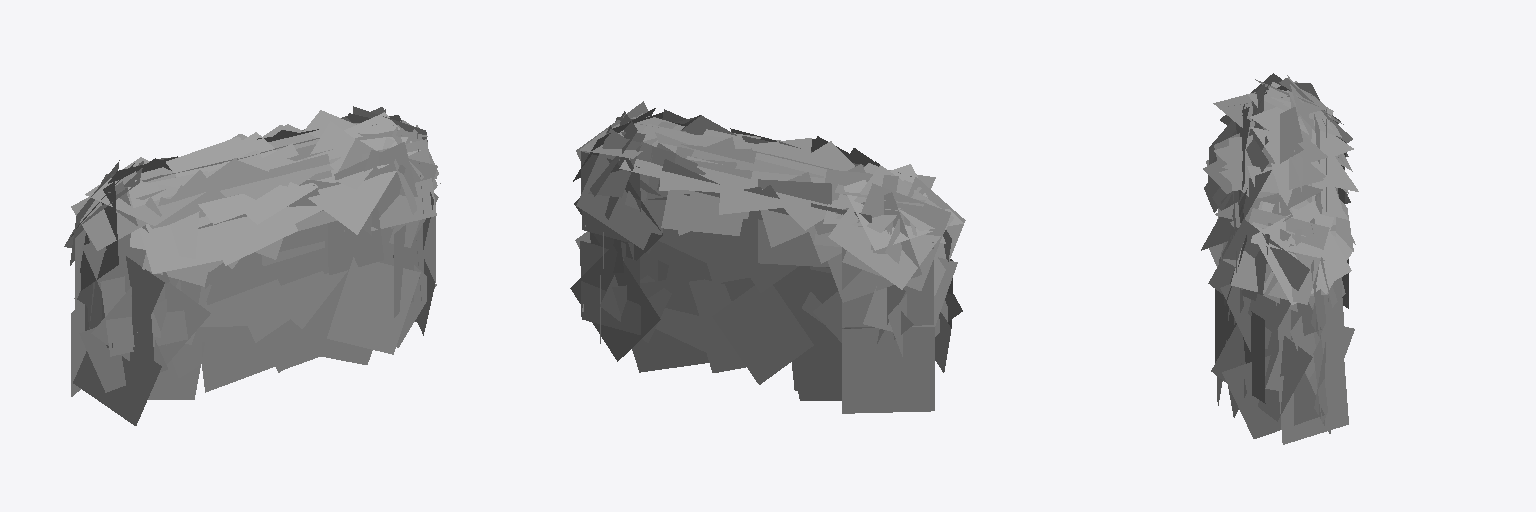
File: Bush_Large.obj
The picture shows the model from 3 angles: view 1: azimuth 30°, elevation 25°; view 2: azimuth 150°, elevation 25°; view 3: azimuth 270°, elevation 25°; orthographic projection.
Visible parts, largest first — view 1: Bush_Large_Plane.031; view 2: Bush_Large_Plane.031; view 3: Bush_Large_Plane.031.
Boxes of the visible parts, box(x1,y1,x2,y2) form: Bush_Large_Plane.031: box(64, 106, 440, 425); Bush_Large_Plane.031: box(570, 101, 965, 413); Bush_Large_Plane.031: box(1201, 73, 1358, 444).
Bounding box in the file's own units: 1.9 × 1.22 × 0.7238.